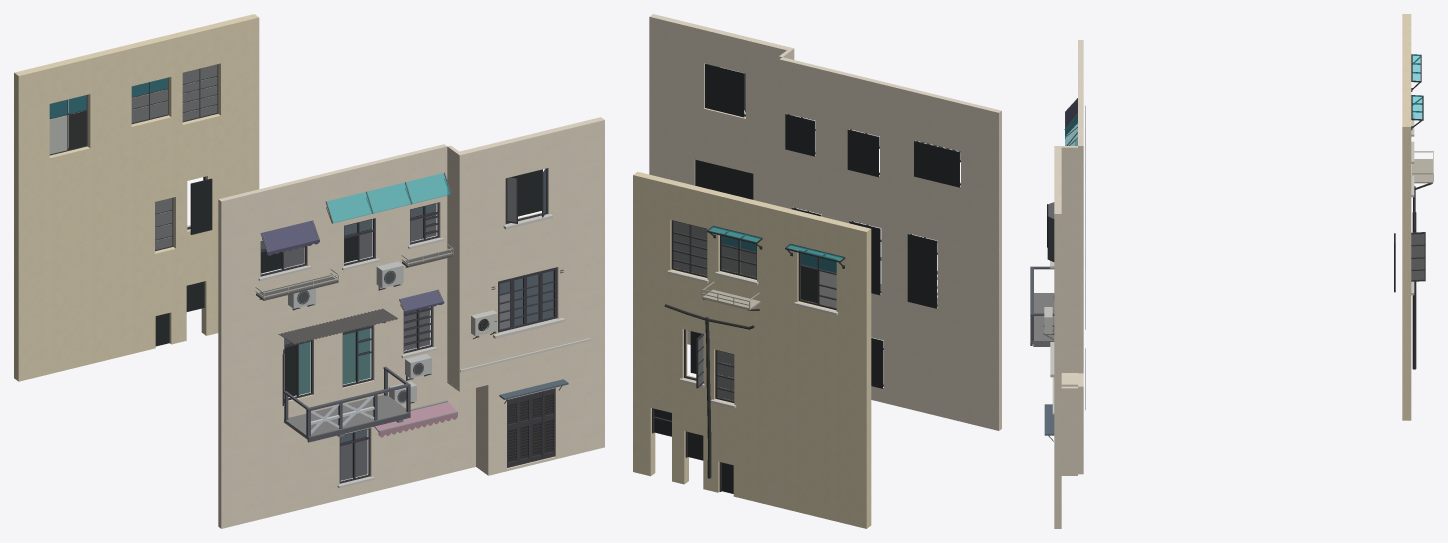
Rendered from lod-source.glb.
3 renders of one model, left to right at view 1: azimuth 30°, elevation 25°; view 2: azimuth 150°, elevation 25°; view 3: azimuth 270°, elevation 25°, orthographic. The views are drawn at different scales.
Visible parts, largest first — view 1: 襄阳南路313号修缮后住宅院面; view 2: 襄阳南路313号修缮后住宅院面; view 3: 襄阳南路313号修缮后住宅院面.
Part boxes in pixels (bbox=[...]): 襄阳南路313号修缮后住宅院面: bbox=[14, 14, 604, 528]; 襄阳南路313号修缮后住宅院面: bbox=[633, 14, 1001, 528]; 襄阳南路313号修缮后住宅院面: bbox=[1030, 14, 1433, 528].
Bounding box in the file's own units: 12.82 × 10.21 × 11.5.
Materials: 30 (2 with a texture image).
